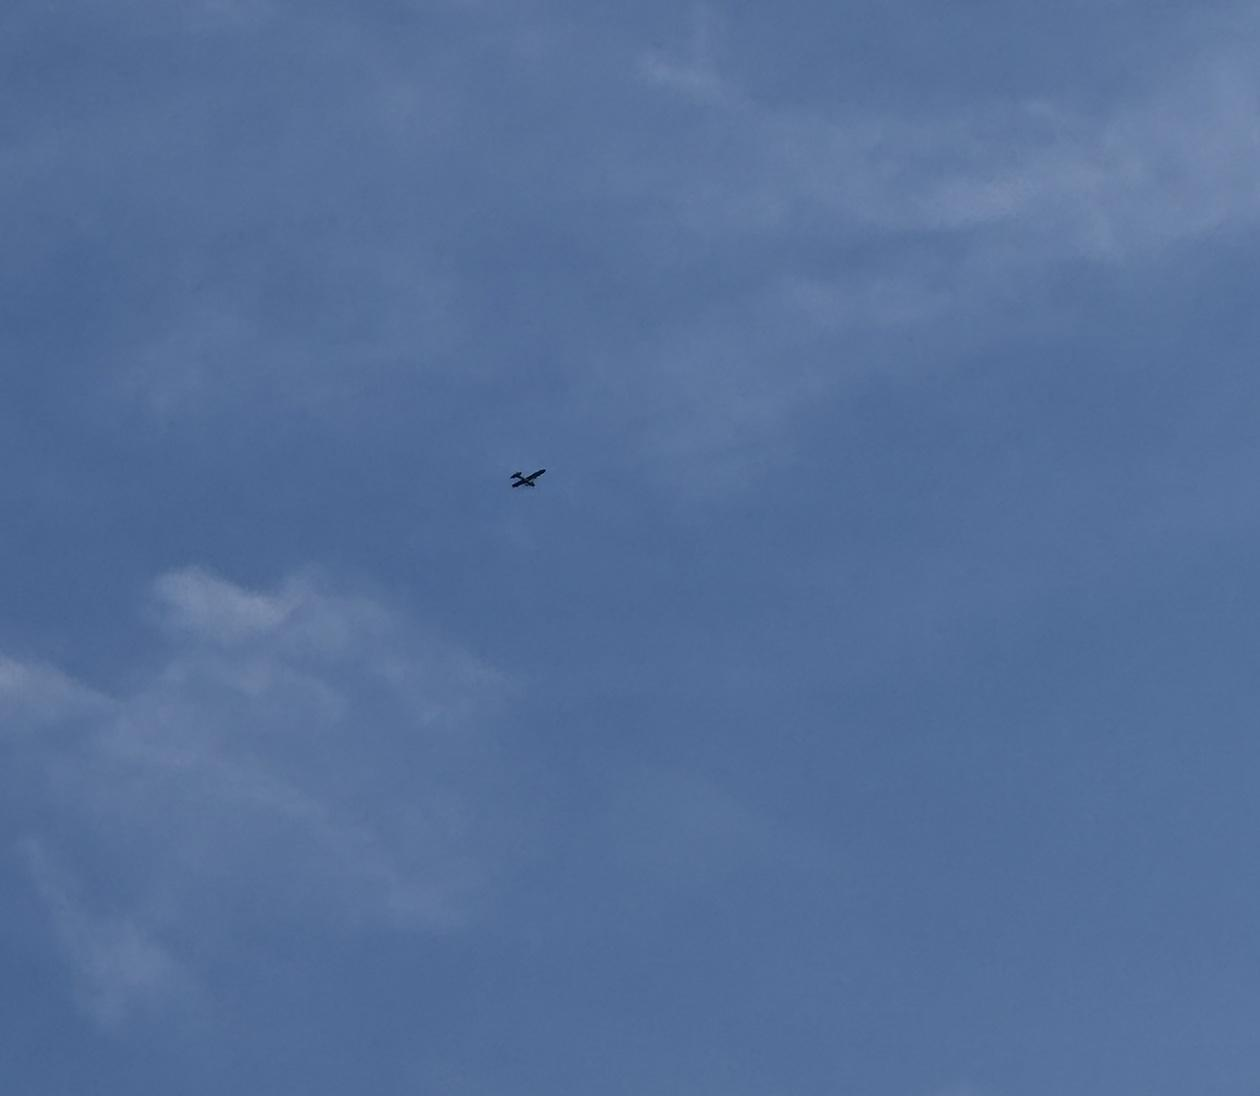Plane: (487, 451, 566, 504)
